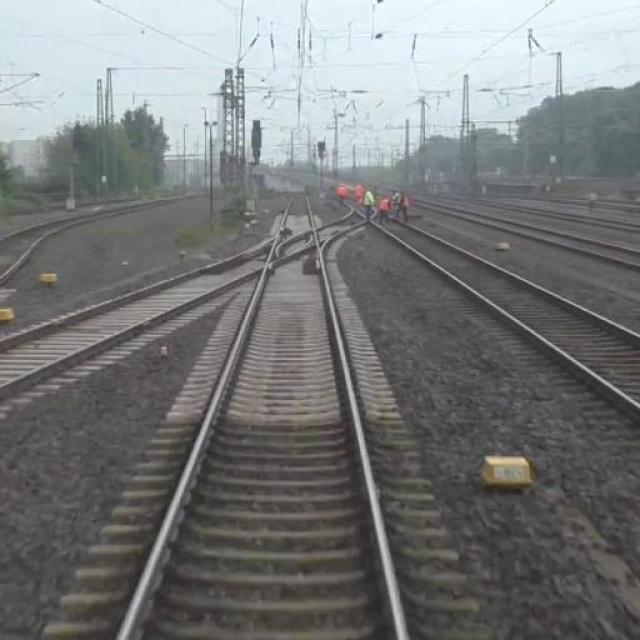people: (392, 193, 410, 223), (350, 182, 363, 220), (334, 178, 347, 213), (361, 189, 374, 223), (378, 195, 393, 222)
